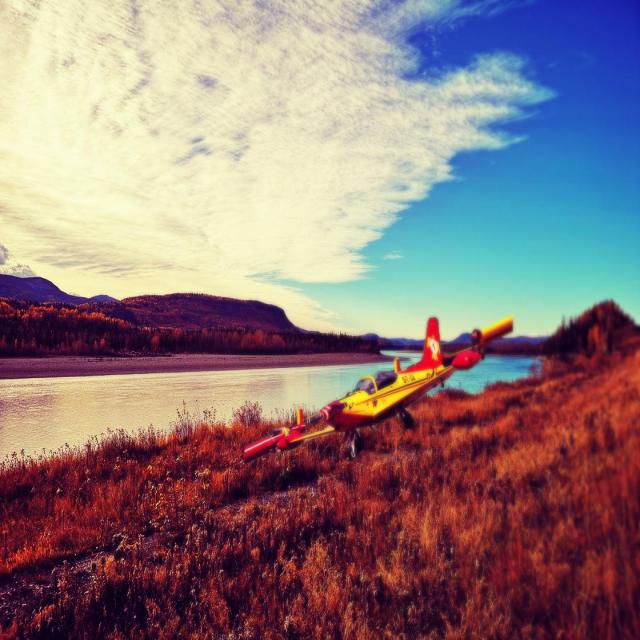airplane: (242, 314, 514, 463)
